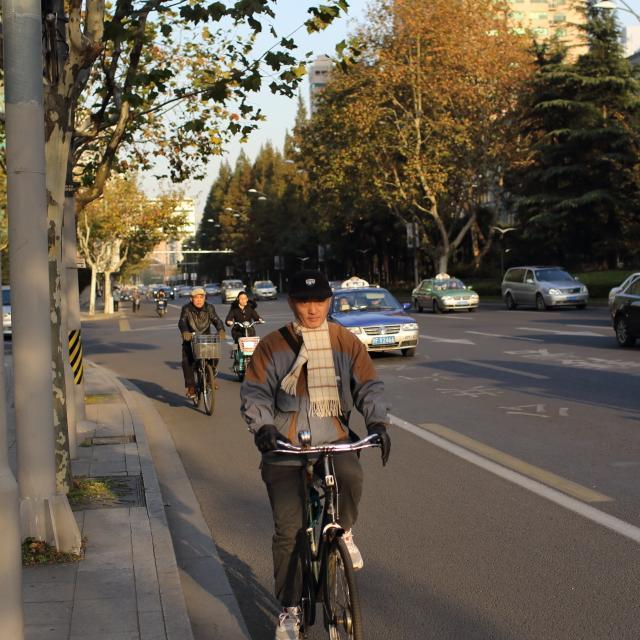curb: (113, 375, 193, 639)
